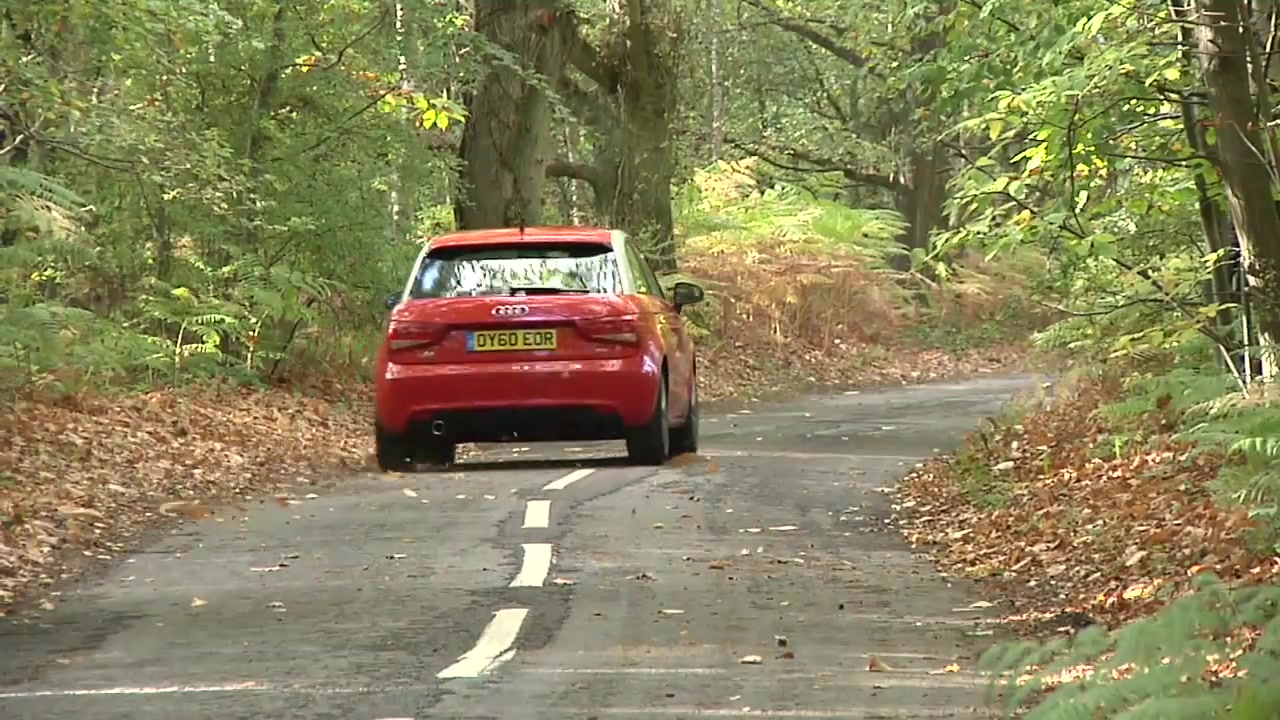car: (366, 226, 709, 471)
